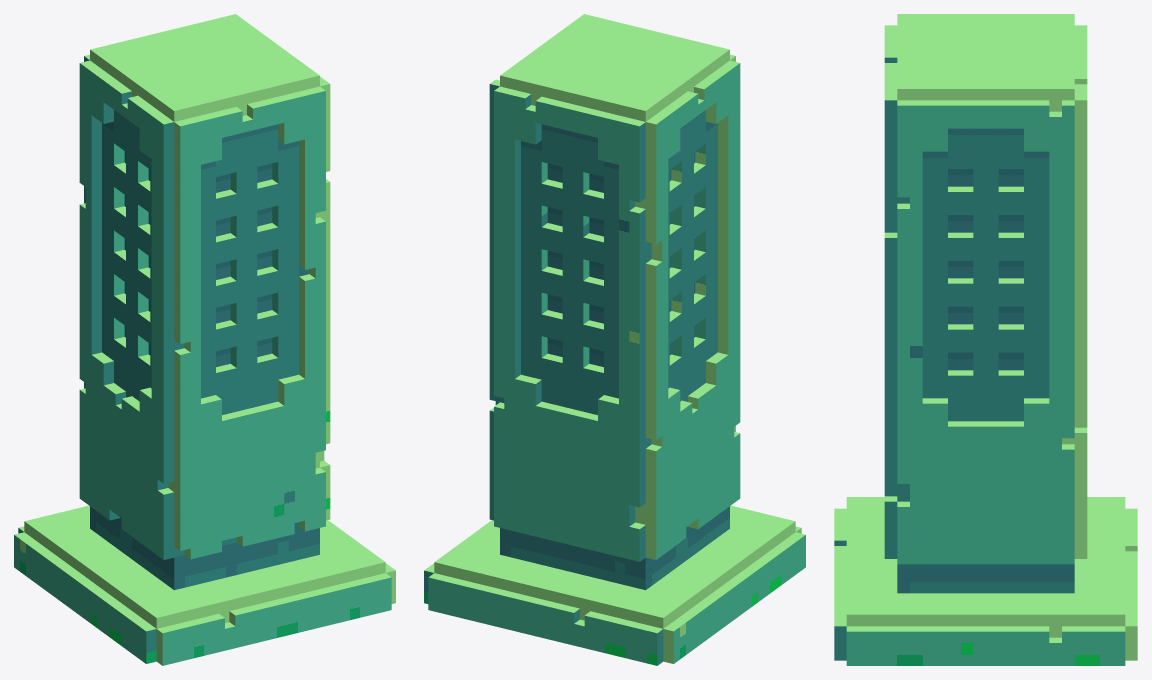
The model's file is grave_pillarao.fezao.glb.
The picture shows the model from 3 angles, left to right: view 1: azimuth 30°, elevation 25°; view 2: azimuth 150°, elevation 25°; view 3: azimuth 270°, elevation 25°; orthographic projection. The views are drawn at different scales.
Visible parts, largest first — view 1: GRAVE_PILLARAO; view 2: GRAVE_PILLARAO; view 3: GRAVE_PILLARAO.
Part boxes in pixels (<box>): GRAVE_PILLARAO: <box>14,14,395,665</box>; GRAVE_PILLARAO: <box>424,14,805,665</box>; GRAVE_PILLARAO: <box>834,14,1137,665</box>.
Size of the model in its own units: 1.5 by 3 by 1.5.
Materials: 1 (1 with a texture image).
